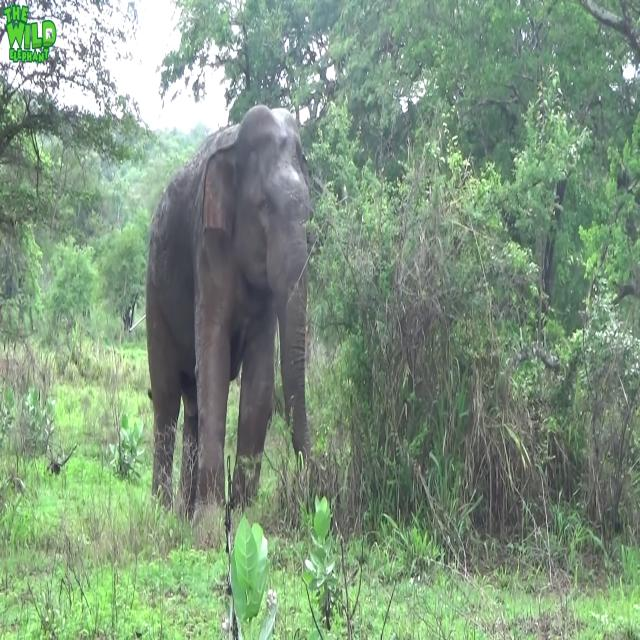Elephant: (145, 103, 312, 522)
